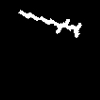double_crochet: (19, 10, 80, 37)
